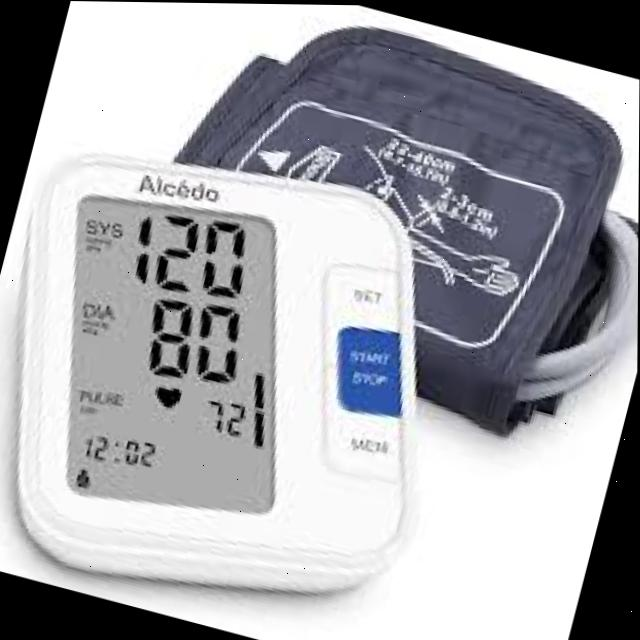dia: (139, 295, 250, 389)
pul: (197, 389, 249, 445)
ssd: (68, 193, 275, 509)
sys: (127, 206, 259, 300)
